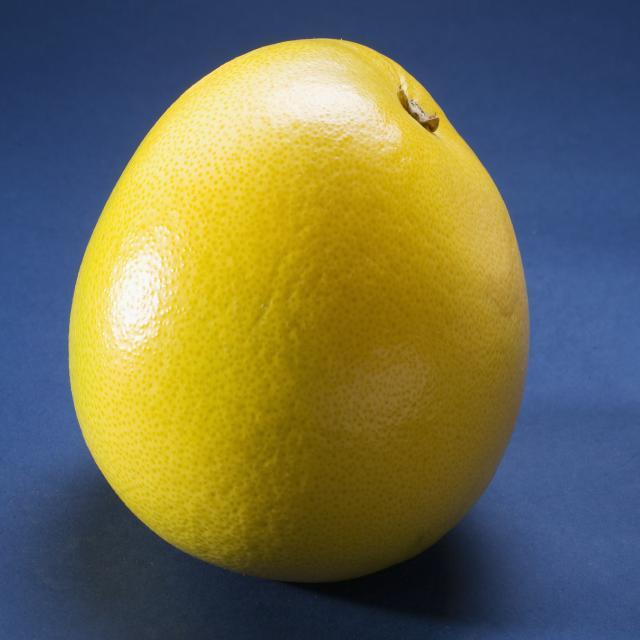Orange: (58, 32, 530, 586)
